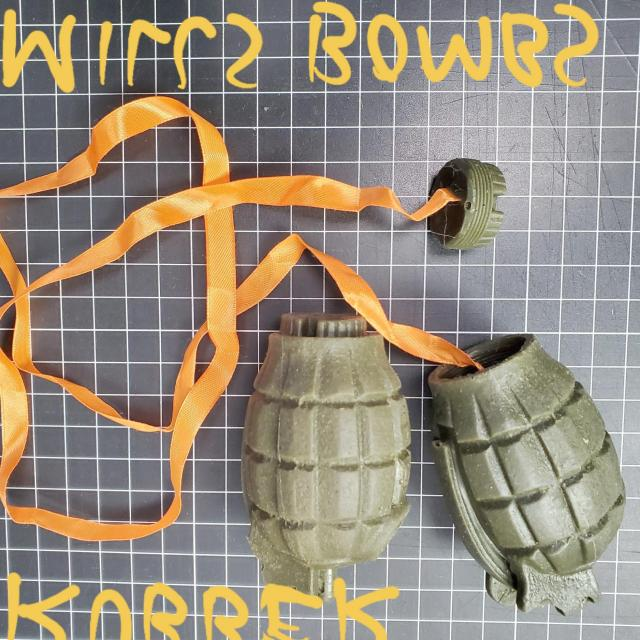grenade: (430, 333, 627, 617), (242, 315, 413, 600)
